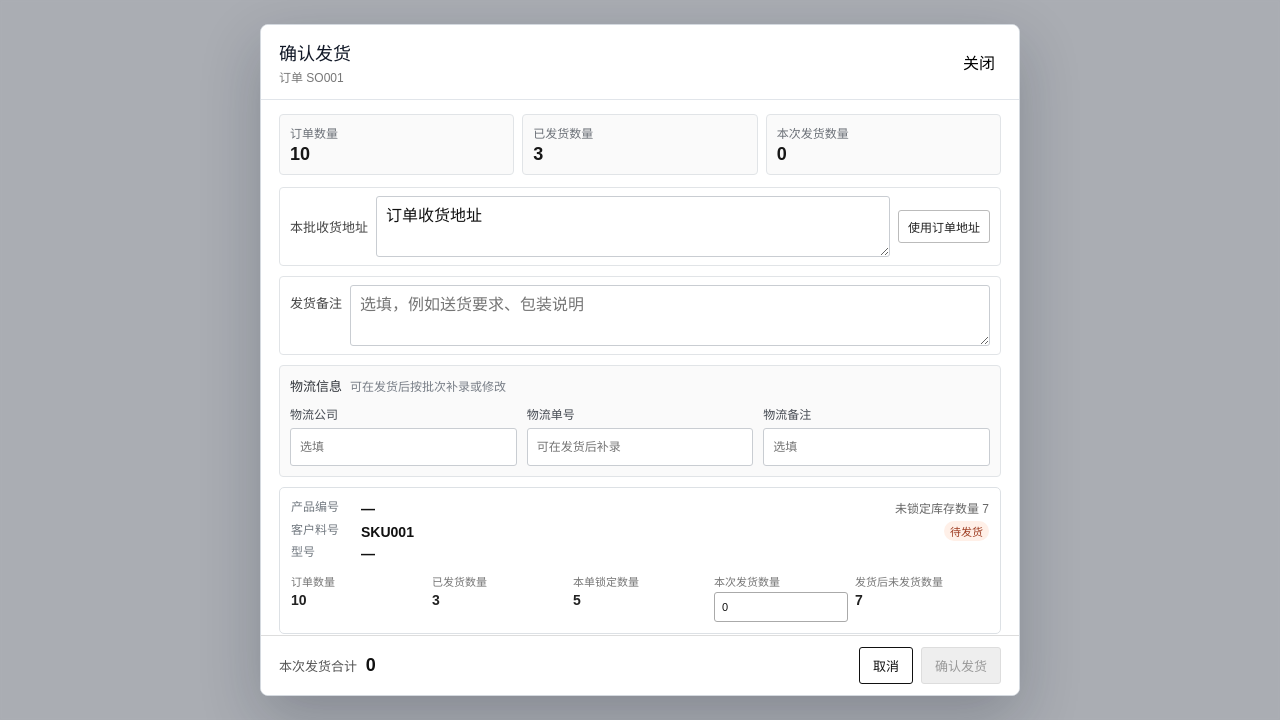
Test: falls back to the order delivery address for address restoration
Expected: the button with test id "use-order-address" is enabled, [898,210,990,243]
Replace the text in the text box with test id "shipment-address" with "临时收货地址" at (633, 227), box [376,196,890,257]
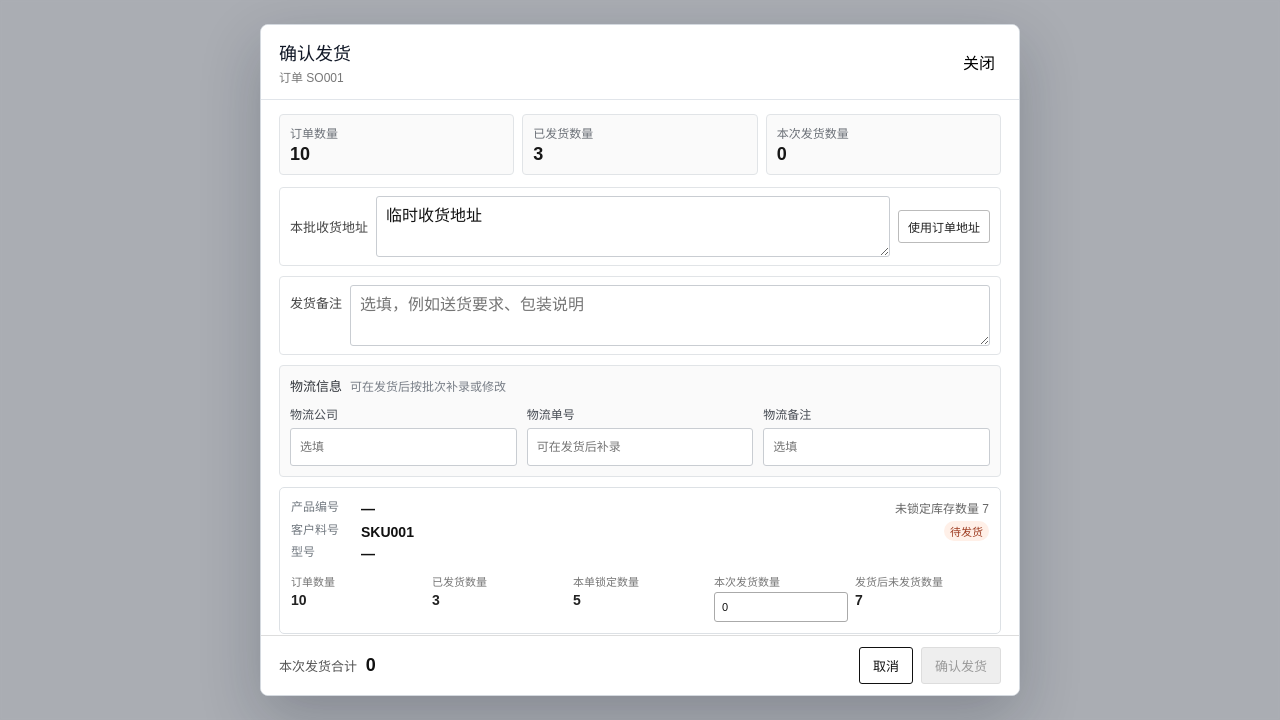
Click the button with test id "use-order-address".
click(944, 227)  # box [898,210,990,243]
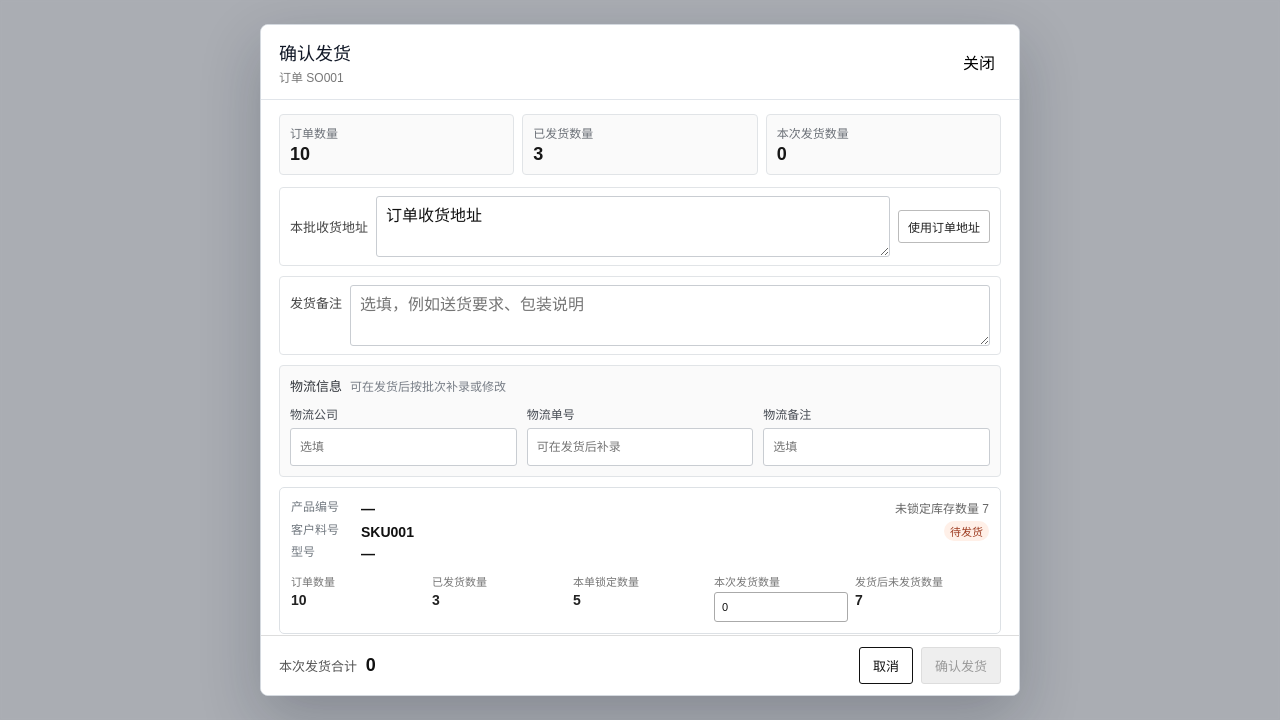
Expected: the text box with test id "shipment-address" holds "订单收货地址", [376,196,890,257]
